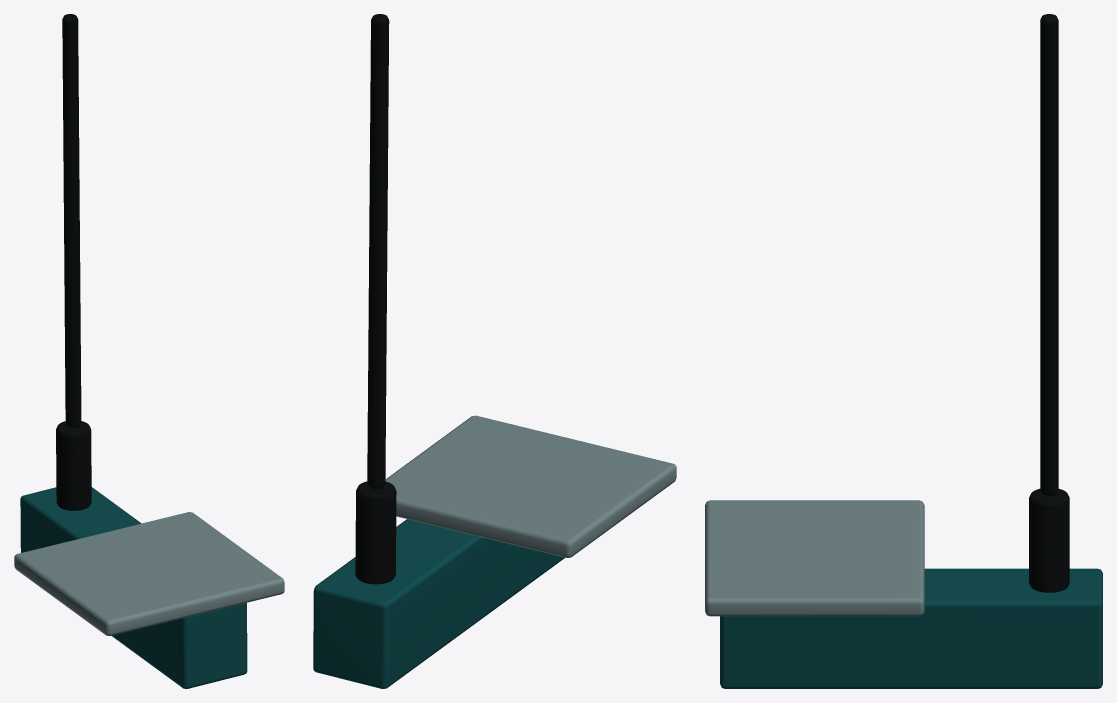
File: telemetry_whip.obj
The picture shows the model from 3 angles, left to right: view 1: azimuth 30°, elevation 25°; view 2: azimuth 150°, elevation 25°; view 3: azimuth 270°, elevation 25°; orthographic projection. The views are drawn at different scales.
Parts seen in each view (by area): view 1: Telemetry_whip; view 2: Telemetry_whip; view 3: Telemetry_whip.
Part boxes in pixels (bbox=[...]): Telemetry_whip: bbox=[14, 14, 284, 688]; Telemetry_whip: bbox=[313, 14, 676, 688]; Telemetry_whip: bbox=[705, 14, 1102, 688].
Bounding box in the file's own units: 0.047 × 0.1416 × 0.078.
